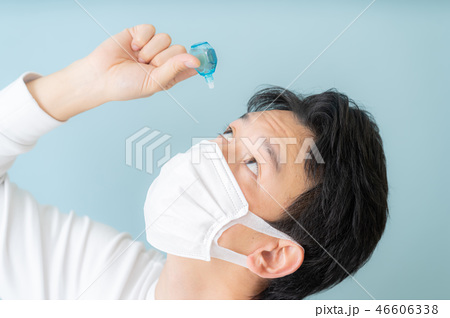mask: (140, 134, 240, 253)
